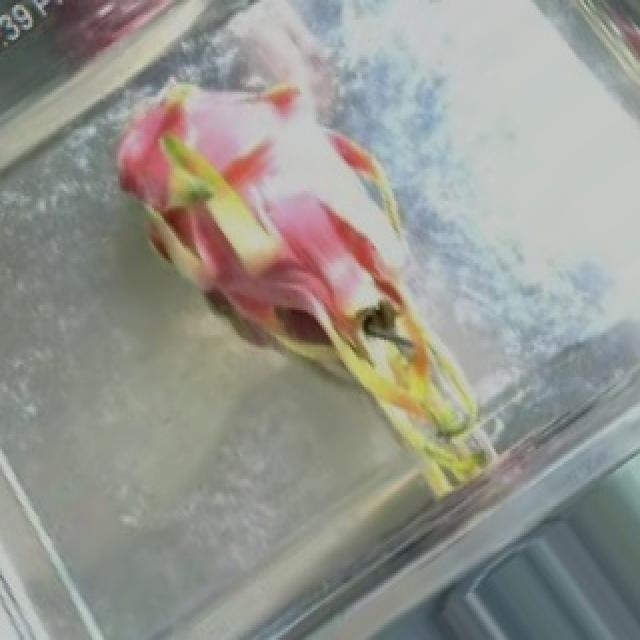fruit: (38, 17, 462, 464)
